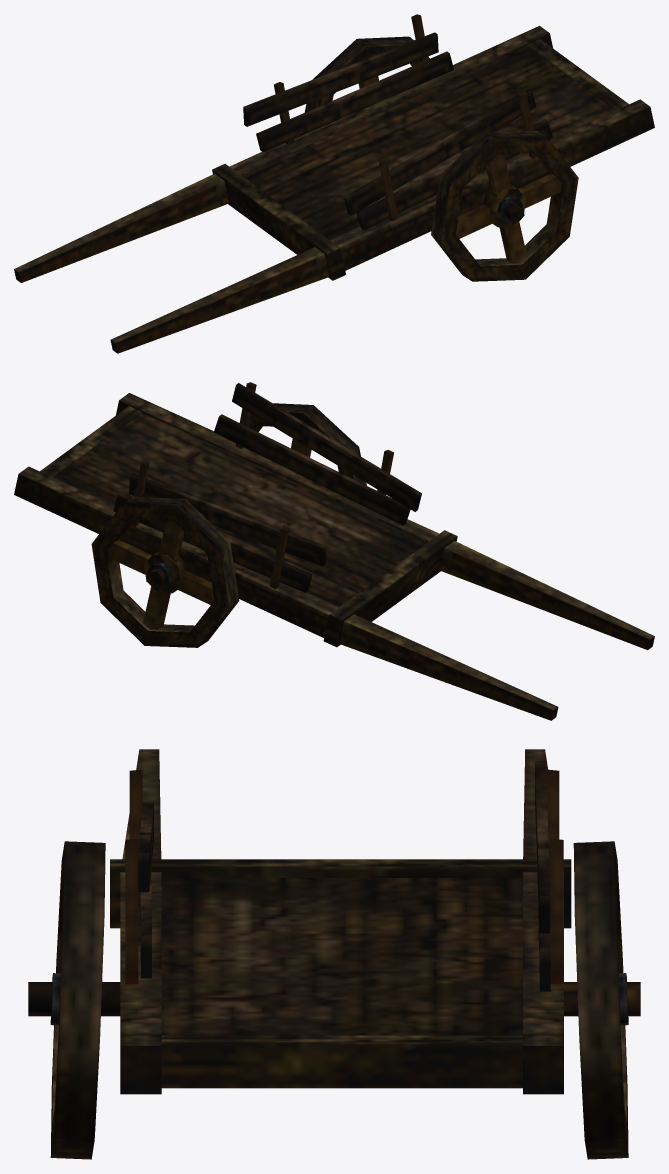
Rendered from b_general_obj_21_01.glb.
3 views of the same model, one above another, from view 1: azimuth 30°, elevation 25°; view 2: azimuth 150°, elevation 25°; view 3: azimuth 270°, elevation 25° (orthographic). The views are drawn at different scales.
Parts seen in each view (by area): view 1: Sphere01; view 2: Sphere01; view 3: Sphere01.
Part boxes in pixels (x1,y1,x2,y2): Sphere01: (14, 14, 654, 353); Sphere01: (14, 382, 654, 720); Sphere01: (28, 749, 640, 1159).
Bounding box in the file's own units: 4.77 × 1.44 × 2.36.
Materials: 1 (1 with a texture image).
